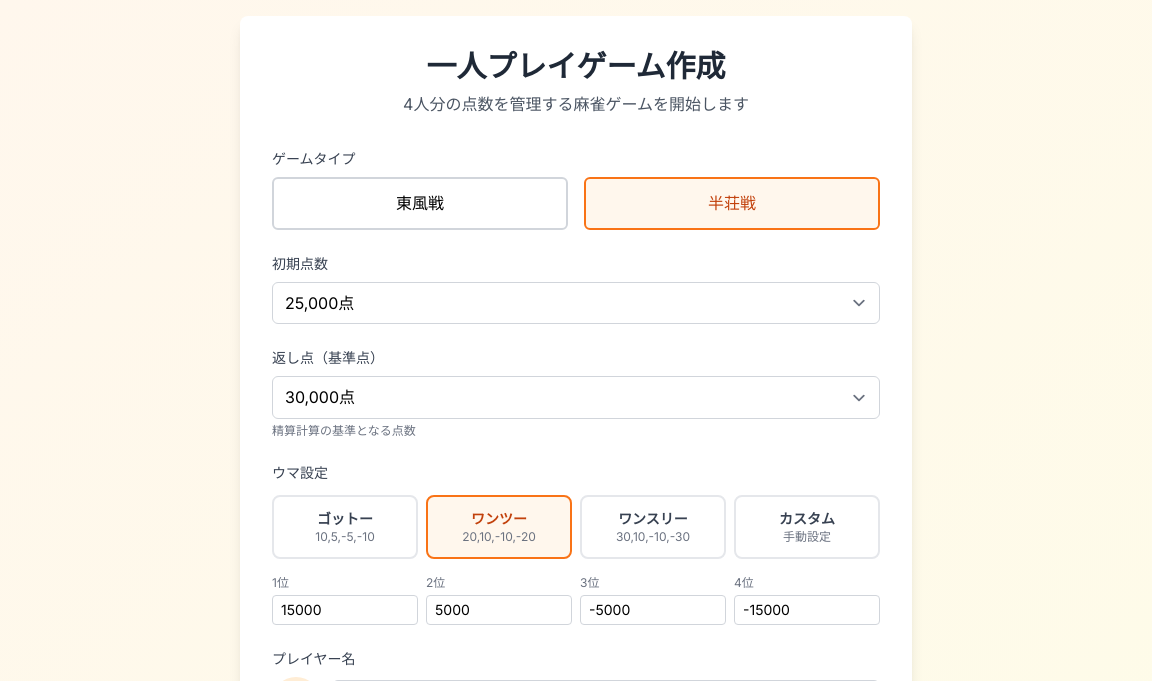
Test: SoloCreatePage › should update uma values when a preset is clicked
The width and height of the screenshot is (1152, 681).
Click the text "ワンスリー": [653, 519] box [618, 510, 688, 527]
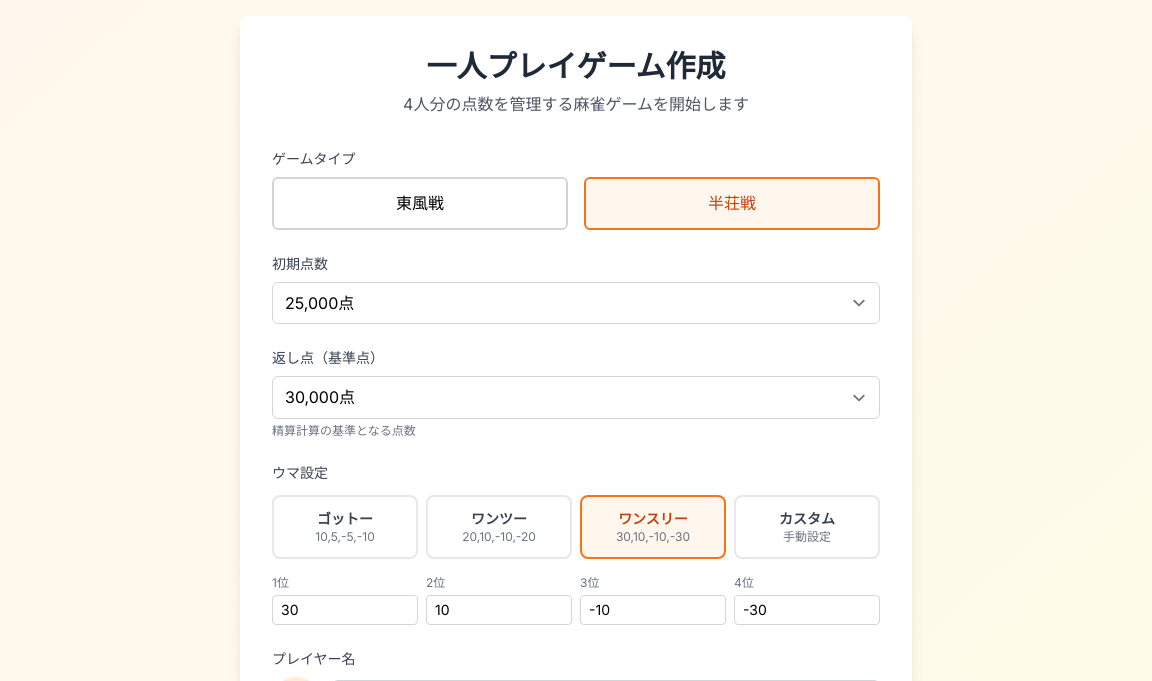
Now the number field below "1位" holds "30", box [272, 595, 418, 625]
Now the number field below "2位" holds "10", box [426, 595, 572, 625]
Now the number field below "3位" holds "-10", box [580, 595, 726, 625]
